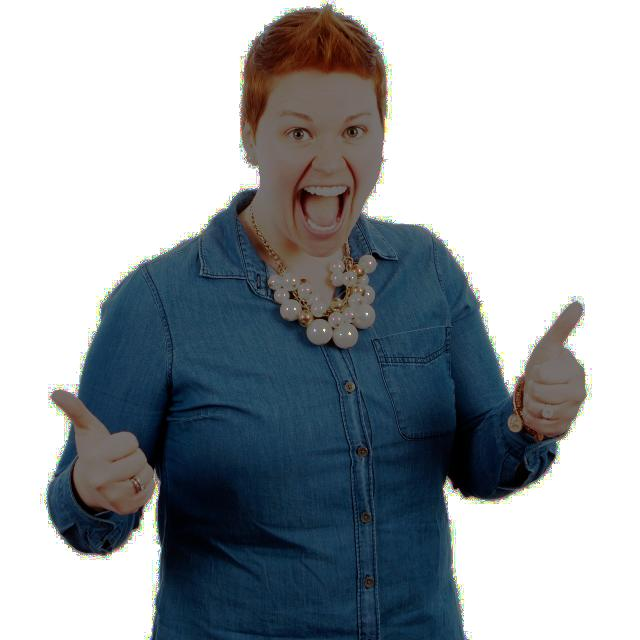thumbs_up: (46, 383, 158, 520), (515, 299, 593, 442)
